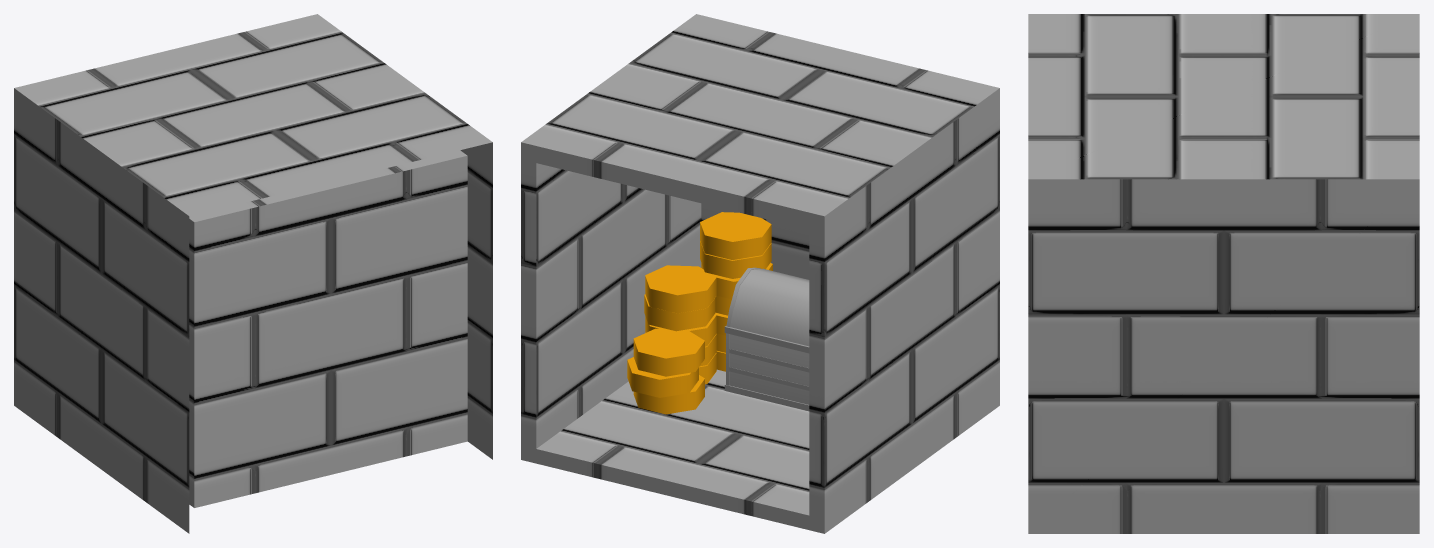
The model's file is Treasury.fbx.
3 views of the same model, side by side, from view 1: azimuth 30°, elevation 25°; view 2: azimuth 150°, elevation 25°; view 3: azimuth 270°, elevation 25° (orthographic). The views are drawn at different scales.
Parts seen in each view (by area): view 1: Treasury; view 2: Treasury; view 3: Treasury.
Boxes of the visible parts, box(x1,y1,x2,y2) form: Treasury: box(14, 14, 492, 533); Treasury: box(521, 14, 999, 533); Treasury: box(1028, 14, 1419, 533).
Bounding box in the file's own units: 104 × 104 × 104.
